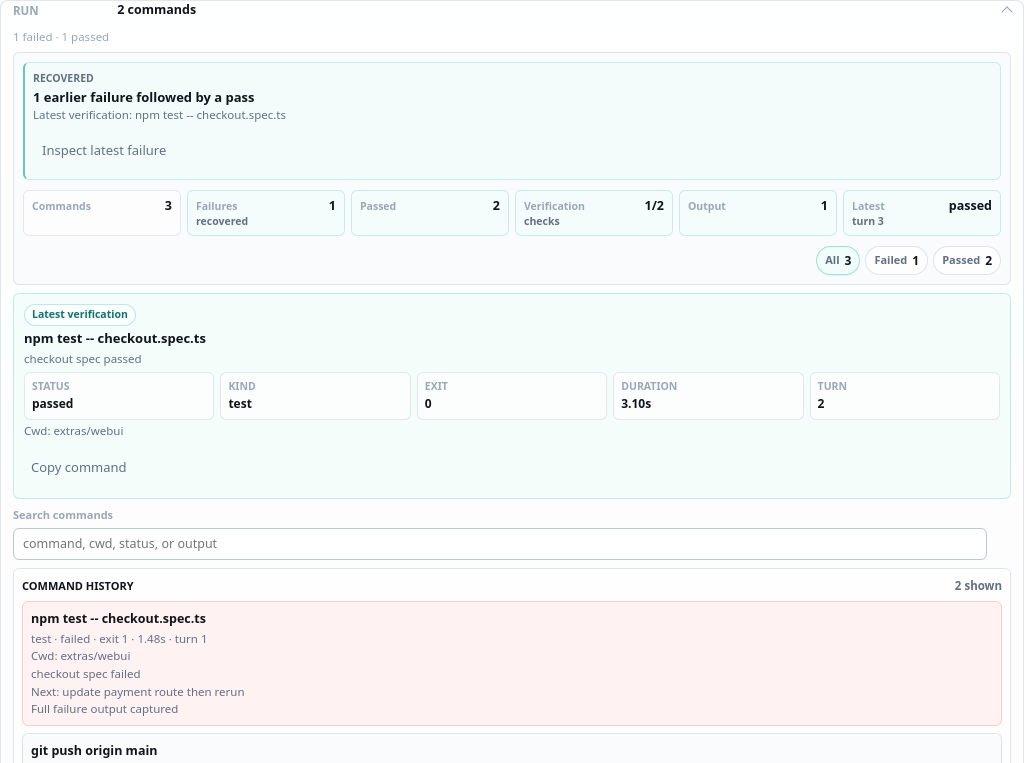
SessionRunPanel › treats earlier failures as recovered and can jump back to failure evidence
Expected: the element with test id "session-run-review" shows "Recovered", [33,71,94,85]
Expected: the element with test id "session-run-review" shows "1 earlier failure followed by a pass", [33,88,254,106]
Click the button "Inspect latest failure" at {"x": 104, "y": 150}, box [33,130,175,170]
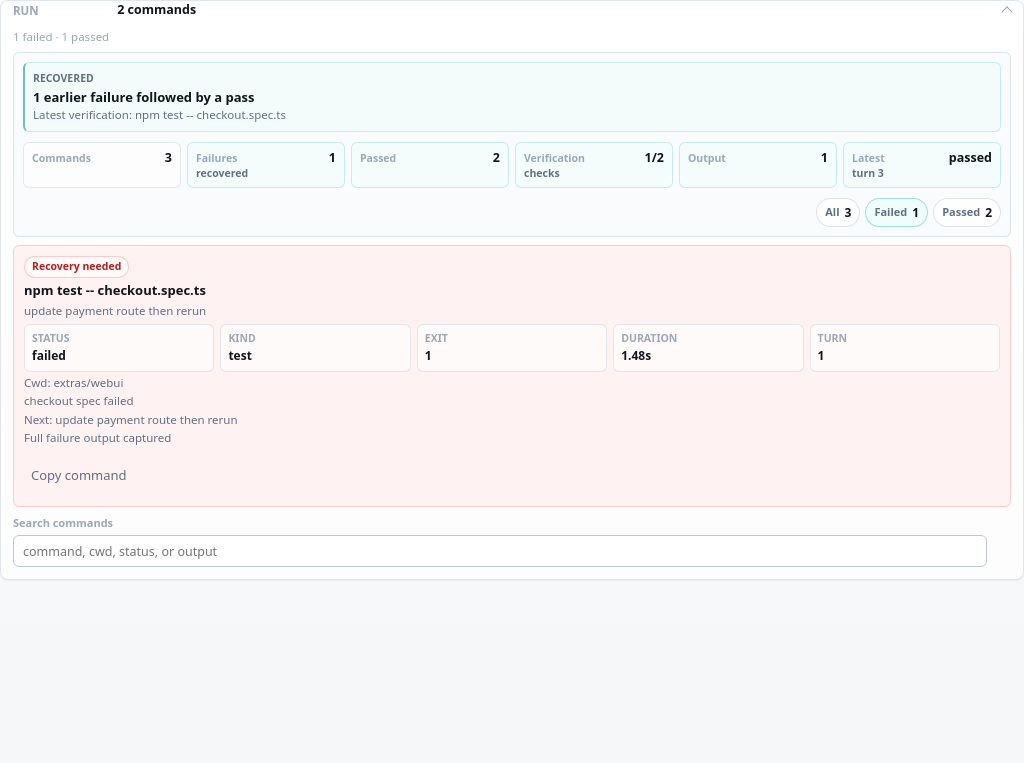
Expected: the element with test id "session-run-focus" shows "npm test -- checkout.spec.ts", [24,280,206,298]
Result: the element with test id "session-run-focus" shows "Recovery needed" at [32,259,121,273]
